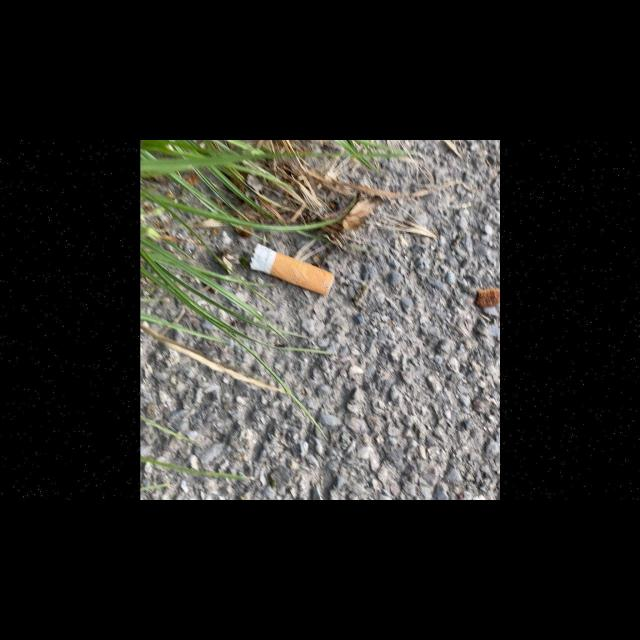cigarette: (249, 242, 335, 296)
